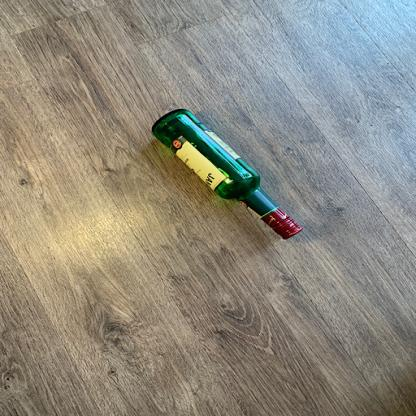trash: (150, 110, 304, 242)
